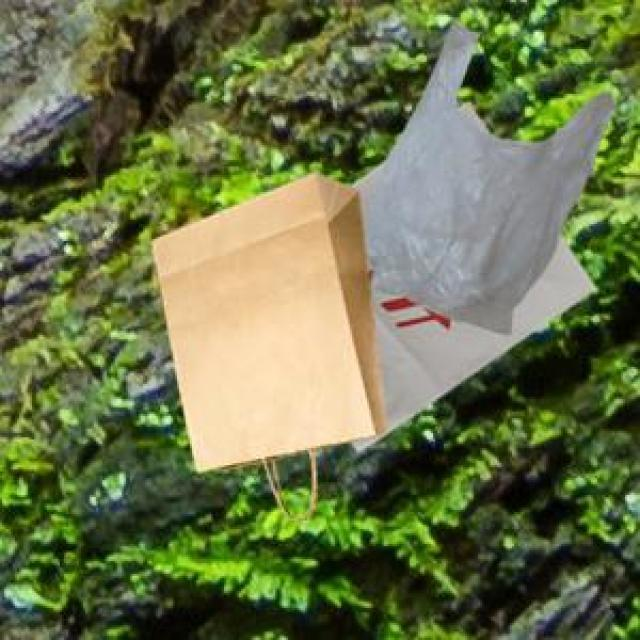paper: (147, 169, 382, 516), (346, 158, 591, 446)
